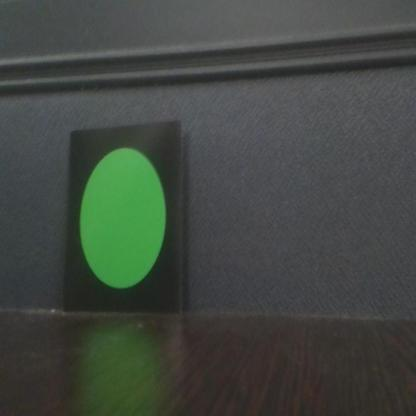go: (70, 131, 182, 310)
